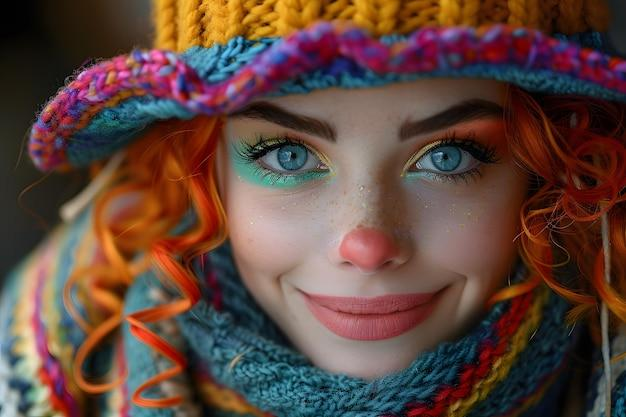cap: (0, 0, 626, 142)
